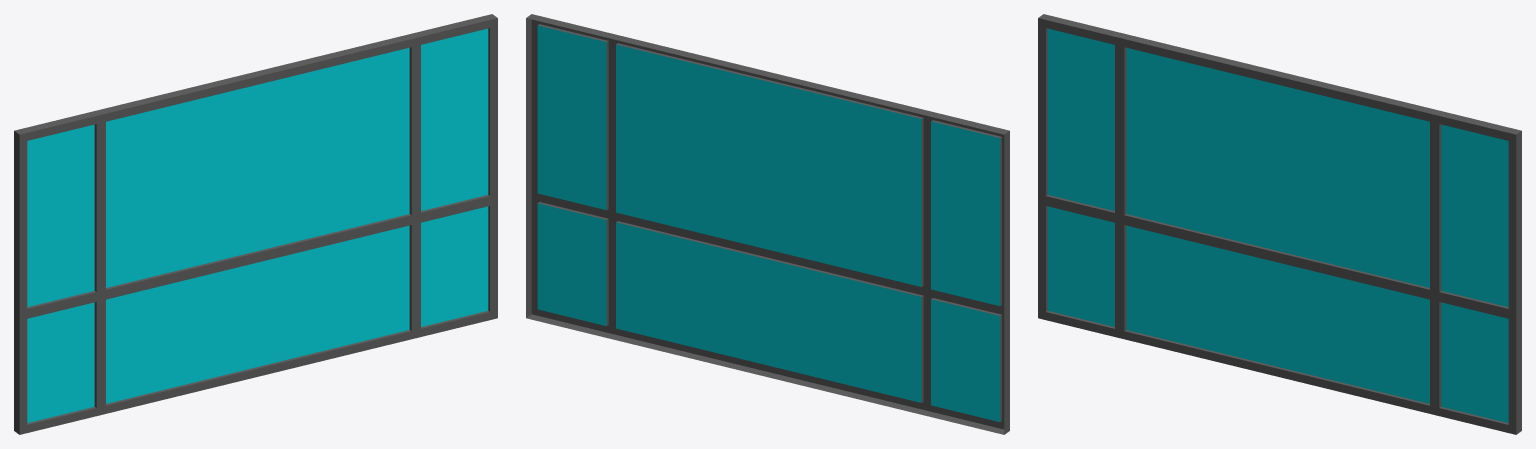
File: okno.fbx
3 renders of one model, left to right at view 1: azimuth 30°, elevation 25°; view 2: azimuth 150°, elevation 25°; view 3: azimuth 330°, elevation 25°, orthographic.
Visible parts, largest first — view 1: Cube; view 2: Cube; view 3: Cube.
Part boxes in pixels (<box>): Cube: <box>14,14,497,434</box>; Cube: <box>526,14,1009,434</box>; Cube: <box>1038,14,1521,434</box>.
Size of the model in its own units: 500 by 300 by 10.
